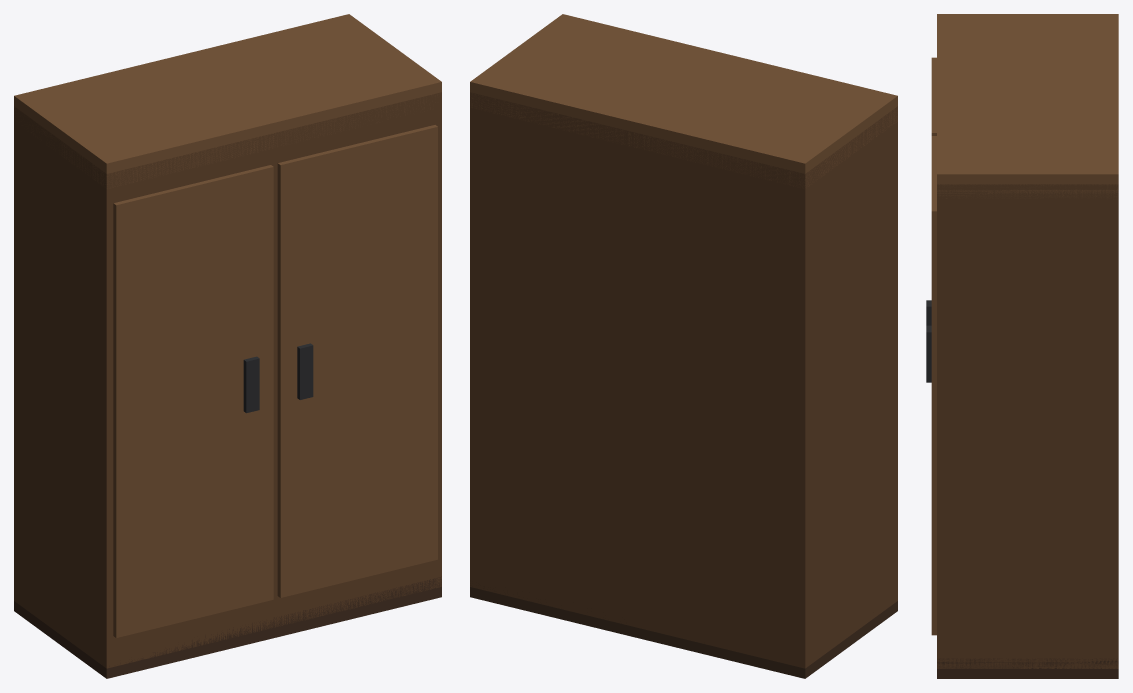
Rendered from SM_Wood_Cabinet_A_Static.glb.
3 renders of one model, left to right at view 1: azimuth 30°, elevation 25°; view 2: azimuth 150°, elevation 25°; view 3: azimuth 270°, elevation 25°, orthographic. The views are drawn at different scales.
Parts seen in each view (by area): view 1: SM_Wood_Cabinet_A_Static; view 2: SM_Wood_Cabinet_A_Static; view 3: SM_Wood_Cabinet_A_Static.
Part boxes in pixels (x1,y1,x2,y2): SM_Wood_Cabinet_A_Static: (14, 14, 441, 678); SM_Wood_Cabinet_A_Static: (470, 14, 897, 678); SM_Wood_Cabinet_A_Static: (926, 14, 1118, 678).
Bounding box in the file's own units: 1 × 1.47 × 0.508.
Materials: 1 (1 with a texture image).
